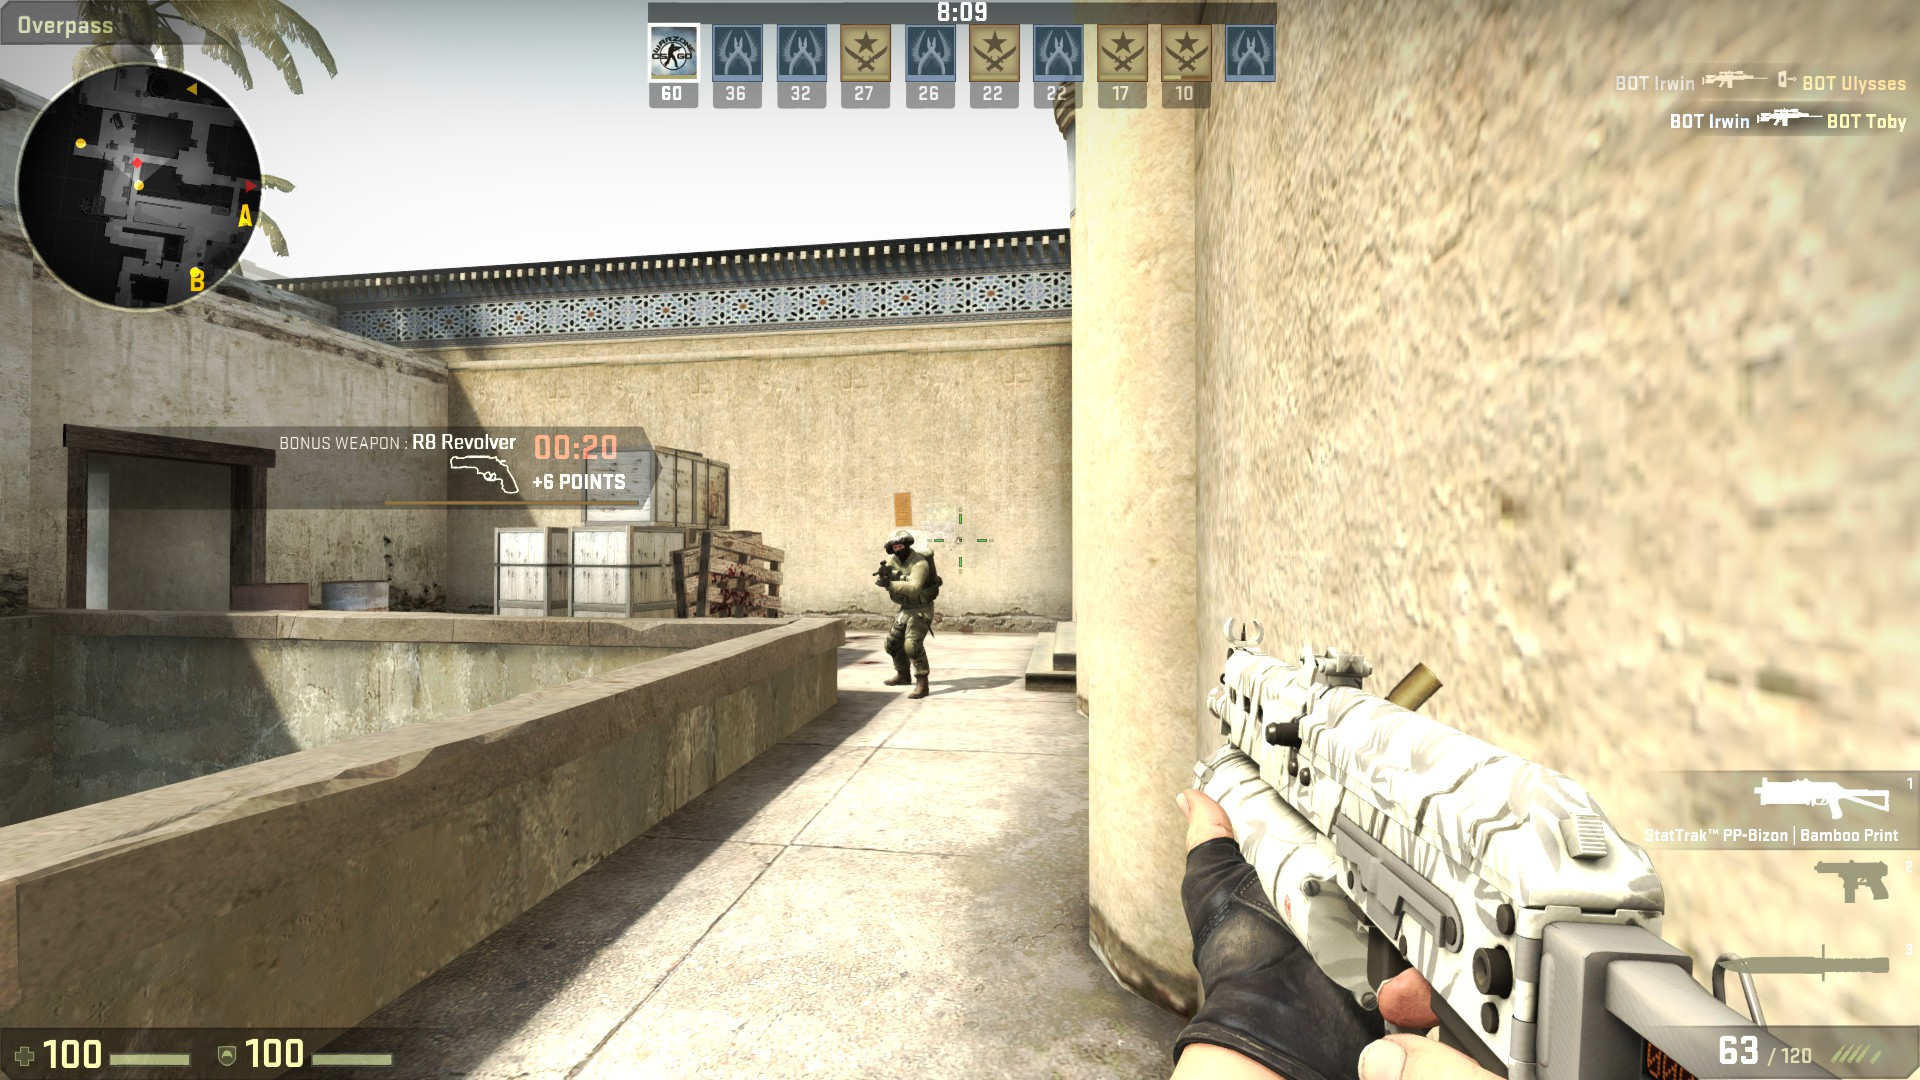c: (878, 527, 939, 698)
ch: (885, 527, 915, 560)
